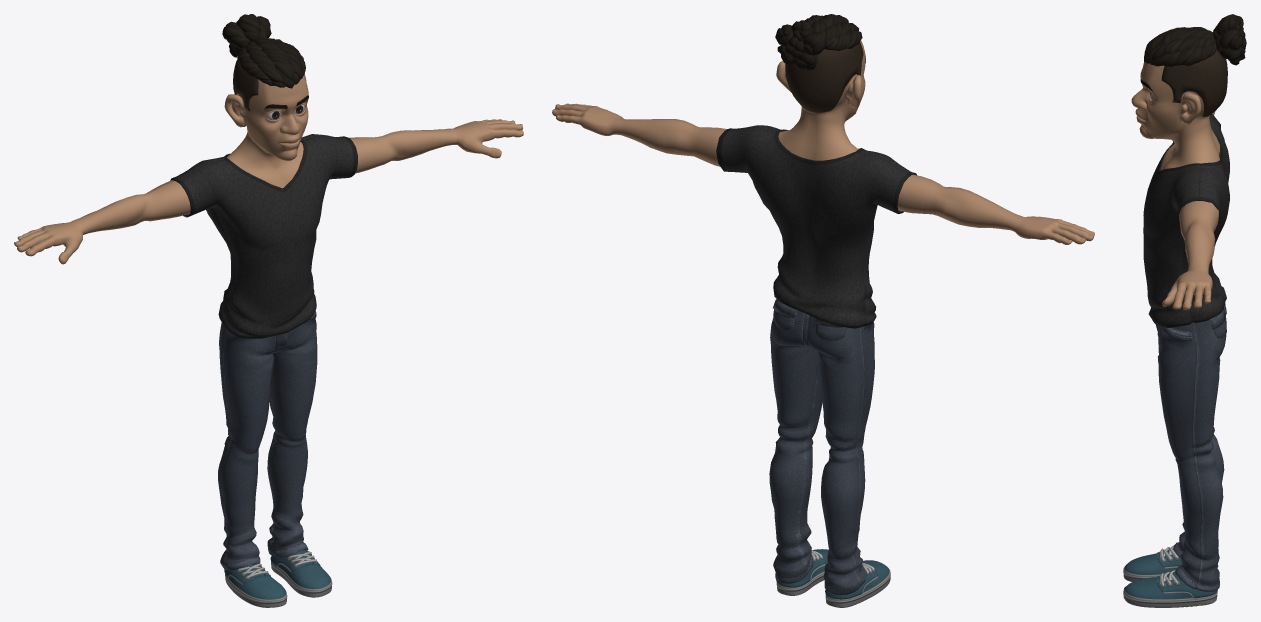
File: G02-Snow-BlenderStudio-R83.glb
3 views of the same model, side by side, from view 1: azimuth 30°, elevation 25°; view 2: azimuth 150°, elevation 25°; view 3: azimuth 270°, elevation 25° (orthographic). The views are drawn at different scales.
Parts seen in each view (by area): view 1: R83_GEO-snow-shirt, R83_GEO-snow-pants, R83_GEO-snow-body, R83_GEO-snow-head, R83_GEO-snow-hair_base, R83_GEO-snow-shoes_base, R83_GEO-snow-shoes_parts; view 2: R83_GEO-snow-pants, R83_GEO-snow-shirt, R83_GEO-snow-body, R83_GEO-snow-hair_base, R83_GEO-snow-head, R83_GEO-snow-shoes_base, R83_GEO-snow-shoes_parts; view 3: R83_GEO-snow-pants, R83_GEO-snow-shirt, R83_GEO-snow-hair_base, R83_GEO-snow-head, R83_GEO-snow-body, R83_GEO-snow-shoes_base, R83_GEO-snow-shoes_parts.
Boxes of the visible parts, x1,y1,x2,y2 form: R83_GEO-snow-shirt: (170, 134, 357, 338); R83_GEO-snow-pants: (218, 311, 317, 570); R83_GEO-snow-body: (14, 119, 523, 264); R83_GEO-snow-head: (224, 75, 308, 188); R83_GEO-snow-hair_base: (222, 14, 306, 111); R83_GEO-snow-shoes_base: (225, 550, 332, 607); R83_GEO-snow-shoes_parts: (224, 549, 320, 584); R83_GEO-snow-pants: (769, 299, 874, 595); R83_GEO-snow-shirt: (716, 125, 916, 328); R83_GEO-snow-body: (552, 103, 1094, 244); R83_GEO-snow-hair_base: (775, 14, 863, 113); R83_GEO-snow-head: (776, 40, 865, 160); R83_GEO-snow-shoes_base: (776, 549, 890, 607); R83_GEO-snow-shoes_parts: (776, 550, 878, 599); R83_GEO-snow-pants: (1156, 302, 1226, 591); R83_GEO-snow-shirt: (1143, 114, 1229, 328); R83_GEO-snow-hair_base: (1144, 14, 1246, 117); R83_GEO-snow-head: (1131, 62, 1219, 170); R83_GEO-snow-body: (1162, 111, 1218, 310); R83_GEO-snow-shoes_base: (1123, 549, 1217, 607); R83_GEO-snow-shoes_parts: (1156, 546, 1218, 598).
Bounding box in the file's own units: 1.79 × 1.86 × 0.3642.
Materials: 14 (5 with a texture image).
